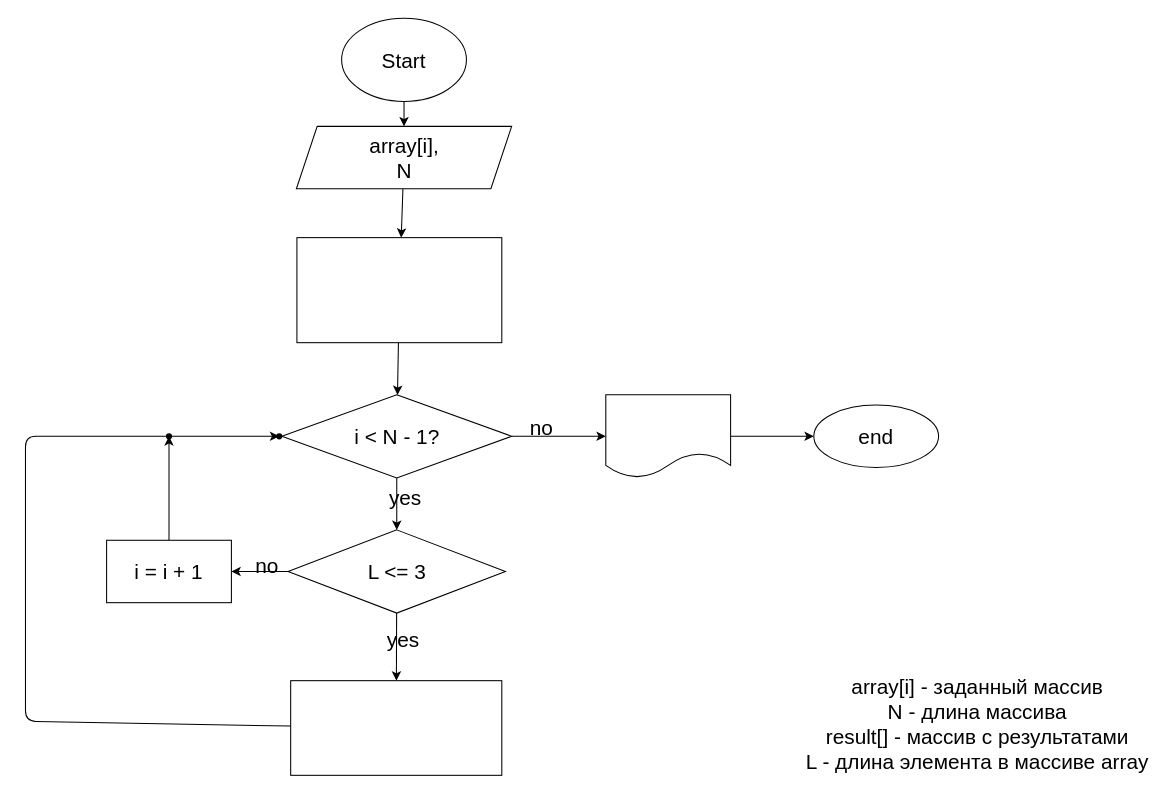
Some shapes in this 1171 by 794 pixel diagram are drawn without their labels. The centre of each missing label's shape, as x and y in pixels:
i = 0, j = 0, result [], L: point (399, 290)
result[]: point (668, 436)
result[j] = array[i]; j = j + 1; i = i+1;: point (396, 727)
